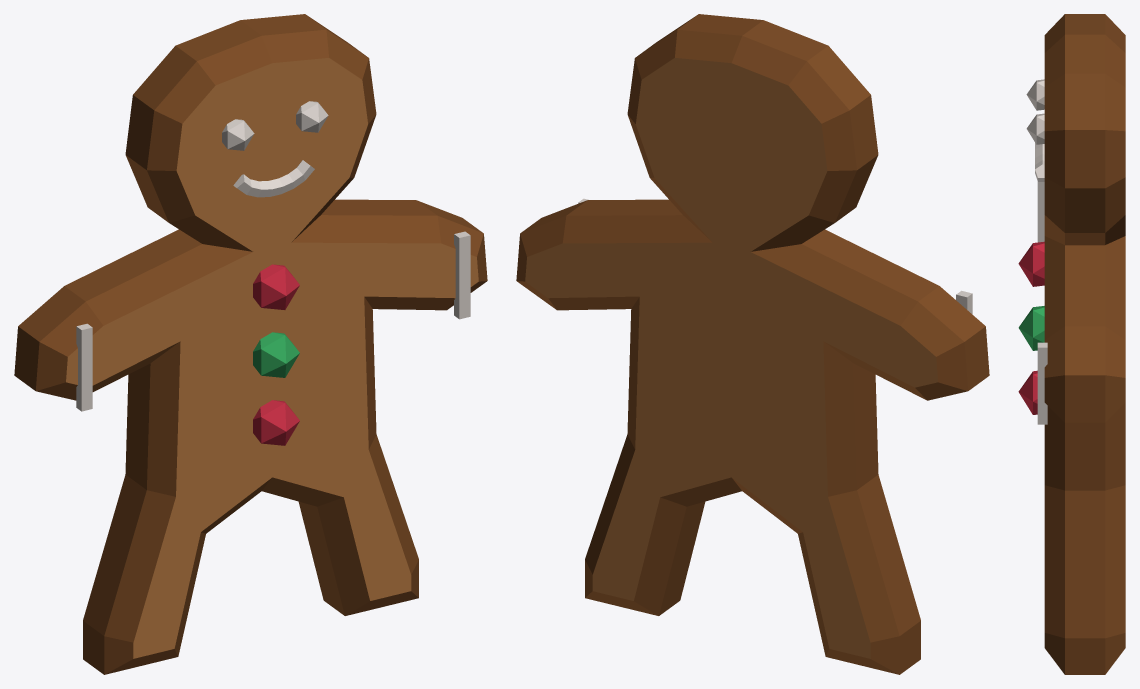
The model's file is Gingerbread_Man.glb.
The picture shows the model from 3 angles, left to right: view 1: azimuth 30°, elevation 25°; view 2: azimuth 150°, elevation 25°; view 3: azimuth 270°, elevation 25°; orthographic projection. The views are drawn at different scales.
Visible parts, largest first — view 1: Gingerbread_Man; view 2: Gingerbread_Man; view 3: Gingerbread_Man.
Boxes of the visible parts, box(x1,y1,x2,y2) form: Gingerbread_Man: box(14, 14, 487, 674); Gingerbread_Man: box(516, 14, 989, 674); Gingerbread_Man: box(1018, 14, 1125, 674).
Bounding box in the file's own units: 3.17 × 4.03 × 0.689.
